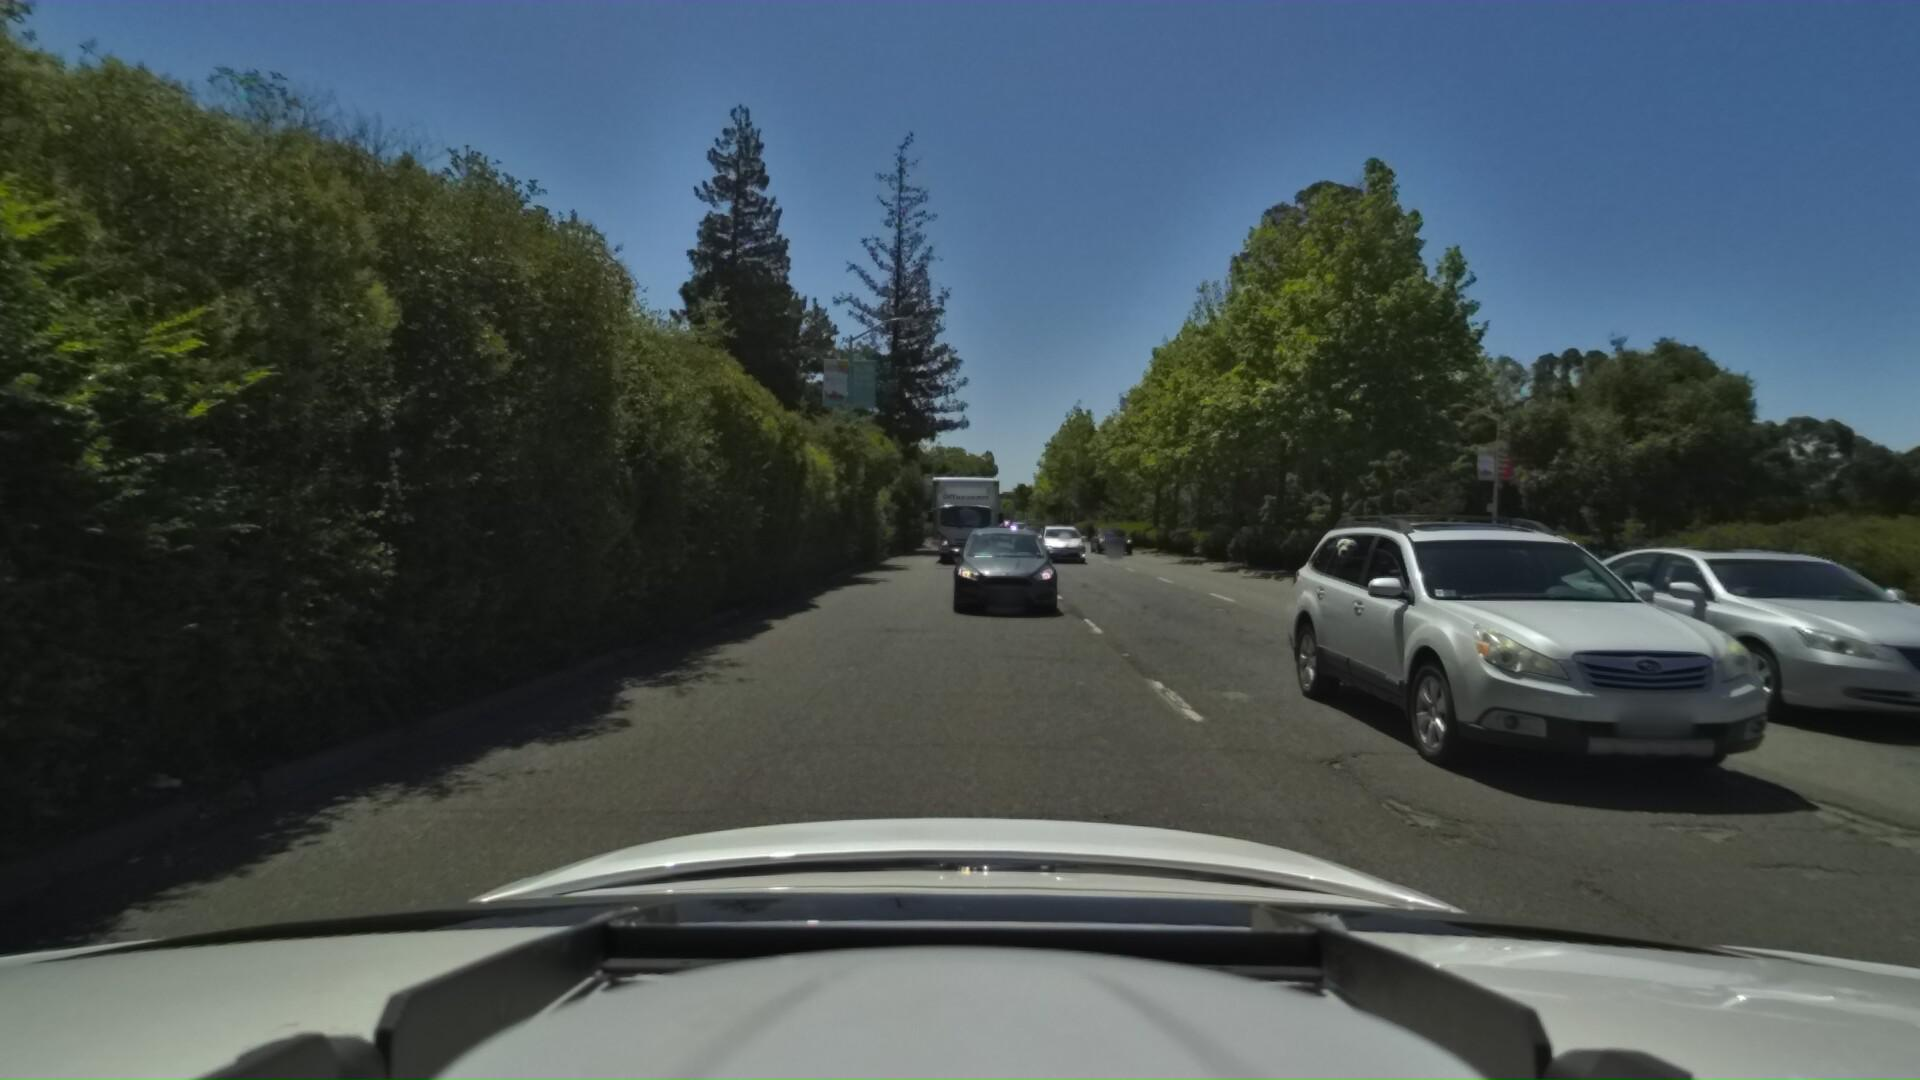car: (1228, 501, 1673, 761), (1458, 529, 1920, 723), (945, 520, 1051, 611), (1033, 520, 1089, 564), (1083, 522, 1127, 553)
truck: (918, 467, 1001, 566)
